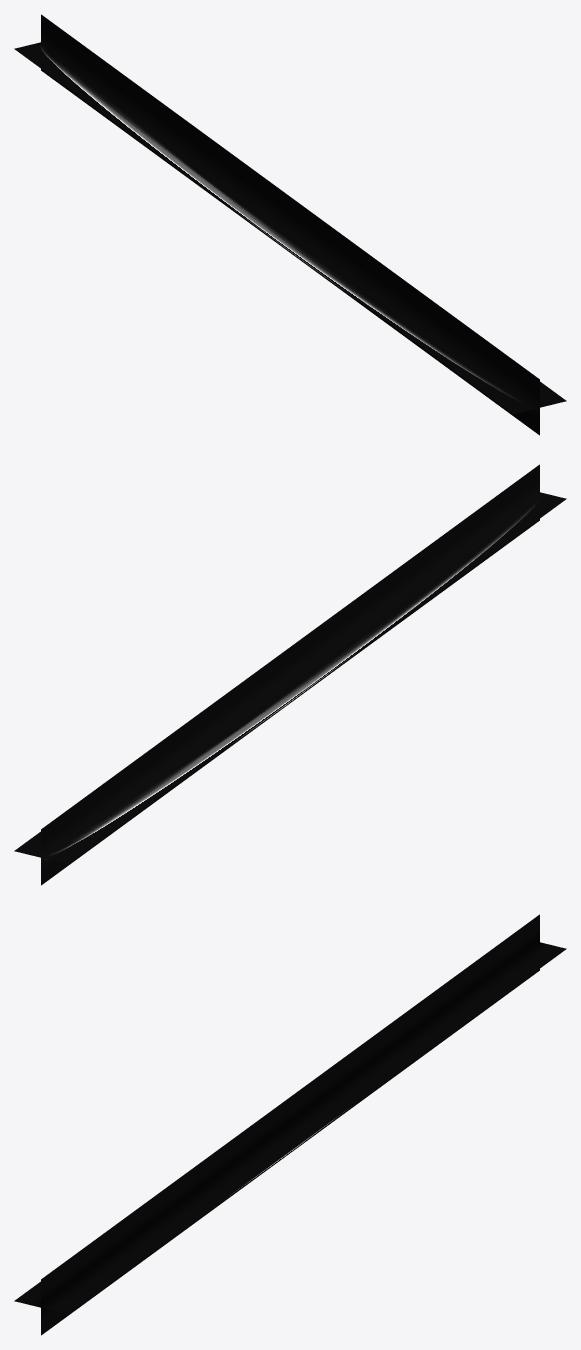
The model's file is 0339_jianguang_M_01.glb.
3 views of the same model, one above another, from view 1: azimuth 30°, elevation 25°; view 2: azimuth 150°, elevation 25°; view 3: azimuth 330°, elevation 25° (orthographic).
Bounding box in the file's own units: 0.1368 × 0.1368 × 2.2.
1 material, 1 textured.
